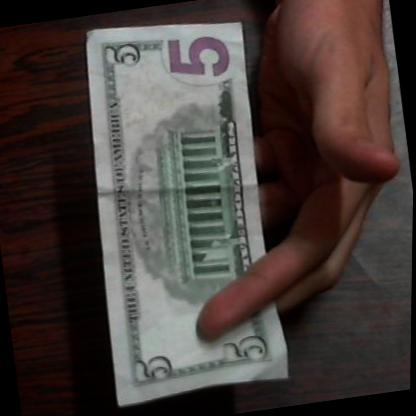five-back: (66, 0, 295, 408)
